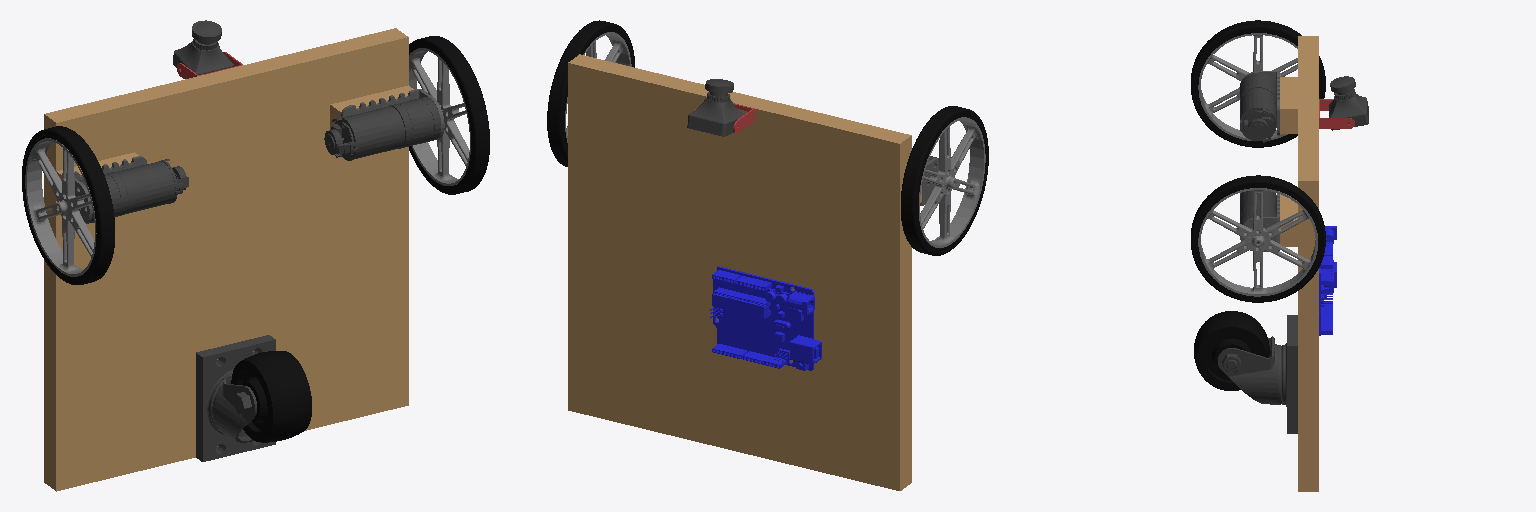
The robot description file, URDF, robot "TrainingBot":
<?xml version="1.0" encoding="utf-8"?>
<!-- This URDF was automatically created by SolidWorks to URDF Exporter! Originally created by [author] ([email redacted]) 
     Commit Version: 1.5.1-0-g916b5db  Build Version: 1.5.7152.31018
     For more information, please see http://wiki.ros.org/sw_urdf_exporter -->
<robot
  name="TrainingBot">
  <link
    name="base_link">
    <inertial>
      <origin
        xyz="0 6.93889390390723E-18 0"
        rpy="0 0 0" />
      <mass
        value="0.2487478896" />
      <inertia
        ixx="0.00108731765426357"
        ixy="1.31669577584786E-20"
        ixz="-7.02237747118861E-20"
        iyy="0.00216650954413354"
        iyz="-4.38898591949288E-21"
        izz="0.00108731765426357" />
    </inertial>
    <visual>
      <origin
        xyz="0 0 0"
        rpy="0 0 0" />
      <geometry>
        <mesh
          filename="../meshes/base_link.STL" />
      </geometry>
      <material
        name="base_link_material">
        <color
          rgba="0.756 0.604 0.420 1" />
      </material>
    </visual>
    <collision>
      <origin
        xyz="0 0 0"
        rpy="0 0 0" />
      <geometry>
        <mesh
          filename="../meshes/base_link.STL" />
      </geometry>
    </collision>
  </link>
  <link
    name="left_wood_prop_link">
    <inertial>
      <origin
        xyz="0 0 0"
        rpy="0 0 0" />
      <mass
        value="0.0038284704333664" />
      <inertia
        ixx="1.55456377687415E-07"
        ixy="4.73951959522331E-23"
        ixz="1.49490791631222E-22"
        iyy="9.33313564697618E-07"
        iyz="-8.99331796208736E-39"
        izz="8.68793469516912E-07" />
    </inertial>
    <visual>
      <origin
        xyz="0 0 0"
        rpy="0 0 0" />
      <geometry>
        <mesh
          filename="../meshes/left_wood_prop_link.STL" />
      </geometry>
      <material
        name="left_wood_prop_link_material">
        <color
          rgba="0.756 0.604 0.420 1" />
      </material>
    </visual>
    <collision>
      <origin
        xyz="0 0 0"
        rpy="0 0 0" />
      <geometry>
        <mesh
          filename="../meshes/left_wood_prop_link.STL" />
      </geometry>
    </collision>
  </link>
  <joint
    name="left_wood_prop_joint"
    type="fixed">
    <origin
      xyz="0.0889 -0.012969 0.075044"
      rpy="3.1416 0 3.1416" />
    <parent
      link="base_link" />
    <child
      link="left_wood_prop_link" />
    <axis
      xyz="0 0 0" />
  </joint>
  <link
    name="left_motor_mount_link">
    <inertial>
      <origin
        xyz="-0.00100407311454354 0.00877383766048704 0.00402712436635298"
        rpy="0 0 0" />
      <mass
        value="0.00846304493890513" />
      <inertia
        ixx="2.89279393533569E-06"
        ixy="-1.24622077425322E-10"
        ixz="-6.37724876878601E-10"
        iyy="2.90019095894266E-06"
        iyz="-5.52678208926092E-07"
        izz="7.96294207053633E-07" />
    </inertial>
    <visual>
      <origin
        xyz="0 0 0"
        rpy="0 0 0" />
      <geometry>
        <mesh
          filename="../meshes/left_motor_mount_link.STL" />
      </geometry>
      <material
        name="left_motor_mount_link_material">
        <color
          rgba="0.4 0.4 0.4 1" />
      </material>
    </visual>
    <collision>
      <origin
        xyz="0 0 0"
        rpy="0 0 0" />
      <geometry>
        <mesh
          filename="../meshes/left_motor_mount_link.STL" />
      </geometry>
    </collision>
  </link>
  <joint
    name="left_motor_mount_joint"
    type="fixed">
    <origin
      xyz="-0.011838 -0.019469 -0.0007163"
      rpy="0 1.5708 0" />
    <parent
      link="left_wood_prop_link" />
    <child
      link="left_motor_mount_link" />
    <axis
      xyz="0 0 0" />
  </joint>
  <link
    name="left_motor_link">
    <inertial>
      <origin
        xyz="0.0987259348740435 0.0194246502815318 -0.114196435699102"
        rpy="0 0 0" />
      <mass
        value="0.565454707473237" />
      <inertia
        ixx="0.0019096576825044"
        ixy="0.000258442184179706"
        ixz="-9.66227920118916E-07"
        iyy="0.00417835606642326"
        iyz="1.4674385288499E-05"
        izz="0.00280904792782018" />
    </inertial>
    <visual>
      <origin
        xyz="0 0 0"
        rpy="0 0 0" />
      <geometry>
        <mesh
          filename="../meshes/left_motor_link.STL" />
      </geometry>
      <material
        name="left_motor_link_material">
        <color
          rgba="0.3 0.3 0.3 1" />
      </material>
    </visual>
    <collision>
      <origin
        xyz="0 0 0"
        rpy="0 0 0" />
      <geometry>
        <mesh
          filename="../meshes/left_motor_link.STL" />
      </geometry>
    </collision>
  </link>
  <joint
    name="left_motor_joint"
    type="fixed">
    <origin
      xyz="-0.001 -0.001 -0.012417"
      rpy="3.1416 0 3.1416" />
    <parent
      link="left_motor_mount_link" />
    <child
      link="left_motor_link" />
    <axis
      xyz="0 0 0" />
  </joint>
  <link
    name="left_plastic_wheel_link">
    <inertial>
      <origin
        xyz="5.98353229203374E-05 1.66611775014903E-06 -6.92626139775498E-08"
        rpy="0 0 0" />
      <mass
        value="0.00930111102814003" />
      <inertia
        ixx="8.80270973746616E-06"
        ixy="-1.38331953233325E-11"
        ixz="-1.53641037444888E-12"
        iyy="4.44911127134219E-06"
        iyz="3.15853111289941E-12"
        izz="4.4452911773099E-06" />
    </inertial>
    <visual>
      <origin
        xyz="0 0 0"
        rpy="0 0 0" />
      <geometry>
        <mesh
          filename="../meshes/left_plastic_wheel_link.STL" />
      </geometry>
      <material
        name="left_plastic_wheel_link_material">
        <color
          rgba="0.5 0.5 0.5 1" />
      </material>
    </visual>
    <collision>
      <origin
        xyz="0 0 0"
        rpy="0 0 0" />
      <geometry>
        <mesh
          filename="../meshes/left_plastic_wheel_link.STL" />
      </geometry>
    </collision>
  </link>
  <joint
    name="left_plastic_wheel_joint"
    type="continuous">
    <origin
      xyz="0 0 0.0085749"
      rpy="3.1416 -1.5708 0" />
    <parent
      link="left_motor_link" />
    <child
      link="left_plastic_wheel_link" />
    <axis
      xyz="0.99998 0 -0.0059159" />
    <limit
      lower="0"
      upper="0"
      effort="0"
      velocity="0" />
  </joint>
  <link
    name="left_rubber_wheel_link">
    <inertial>
      <origin
        xyz="-0.12277131595691 0.0194246502815318 -0.0987259348740435"
        rpy="0 0 0" />
      <mass
        value="0.565454707473237" />
      <inertia
        ixx="0.00280904792782018"
        ixy="1.4674385288499E-05"
        ixz="9.66227920118938E-07"
        iyy="0.00417835606642326"
        iyz="-0.000258442184179706"
        izz="0.0019096576825044" />
    </inertial>
    <visual>
      <origin
        xyz="0 0 0"
        rpy="0 0 0" />
      <geometry>
        <mesh
          filename="../meshes/left_rubber_wheel_link.STL" />
      </geometry>
      <material
        name="left_rubber_wheel_link_material">
        <color
          rgba="0.1 0.1 0.1 1" />
      </material>
    </visual>
    <collision>
      <origin
        xyz="0 0 0"
        rpy="0 0 0" />
      <geometry>
        <mesh
          filename="../meshes/left_rubber_wheel_link.STL" />
      </geometry>
    </collision>
  </link>
  <joint
    name="left_rubber_wheel_joint"
    type="fixed">
    <origin
      xyz="0 0 0"
      rpy="0 0 0" />
    <parent
      link="left_plastic_wheel_link" />
    <child
      link="left_rubber_wheel_link" />
    <axis
      xyz="0 0 0" />
  </joint>
  <link
    name="right_wood_prop_link">
    <inertial>
      <origin
        xyz="0 -3.46944695195361E-18 -2.77555756156289E-17"
        rpy="0 0 0" />
      <mass
        value="0.0038284704333664" />
      <inertia
        ixx="1.55456377687415E-07"
        ixy="-2.42645417401871E-23"
        ixz="4.91675617734335E-21"
        iyy="9.3331356469762E-07"
        iyz="2.58302098591945E-24"
        izz="8.68793469516915E-07" />
    </inertial>
    <visual>
      <origin
        xyz="0 0 0"
        rpy="0 0 0" />
      <geometry>
        <mesh
          filename="../meshes/right_wood_prop_link.STL" />
      </geometry>
      <material
        name="right_wood_prop_link_material">
        <color
          rgba="0.756 0.604 0.420 1" />
      </material>
    </visual>
    <collision>
      <origin
        xyz="0 0 0"
        rpy="0 0 0" />
      <geometry>
        <mesh
          filename="../meshes/right_wood_prop_link.STL" />
      </geometry>
    </collision>
  </link>
  <joint
    name="right_wood_prop_joint"
    type="fixed">
    <origin
      xyz="-0.0889 -0.012969 0.075044"
      rpy="0 0 0" />
    <parent
      link="base_link" />
    <child
      link="right_wood_prop_link" />
    <axis
      xyz="0 0 0" />
  </joint>
  <link
    name="right_motor_mount_link">
    <inertial>
      <origin
        xyz="-0.0010041 -0.0087738 -0.0040271"
        rpy="0 0 0" />
      <mass
        value="0.008463" />
      <inertia
        ixx="2.8928E-06"
        ixy="1.2462E-10"
        ixz="6.3772E-10"
        iyy="2.9002E-06"
        iyz="-5.5268E-07"
        izz="7.9629E-07" />
    </inertial>
    <visual>
      <origin
        xyz="0 0 0"
        rpy="0 0 0" />
      <geometry>
        <mesh
          filename="../meshes/right_motor_mount_link.STL" />
      </geometry>
      <material
        name="right_motor_mount_link_material">
        <color
          rgba="0.4 0.4 0.4 1" />
      </material>
    </visual>
    <collision>
      <origin
        xyz="0 0 0"
        rpy="0 0 0" />
      <geometry>
        <mesh
          filename="../meshes/right_motor_mount_link.STL" />
      </geometry>
    </collision>
  </link>
  <joint
    name="right_motor_mount_joint"
    type="fixed">
    <origin
      xyz="-0.011838 -0.019469 -0.0007163"
      rpy="3.1416 1.5708 0" />
    <parent
      link="right_wood_prop_link" />
    <child
      link="right_motor_mount_link" />
    <axis
      xyz="0 0 0" />
  </joint>
  <link
    name="right_motor_link">
    <inertial>
      <origin
        xyz="-0.0992933348740457 -0.0194246502815318 0.112112416386536"
        rpy="0 0 0" />
      <mass
        value="0.565454707473237" />
      <inertia
        ixx="0.0019096576825044"
        ixy="0.000258442184179707"
        ixz="9.66227920119005E-07"
        iyy="0.00417835606642326"
        iyz="-1.4674385288499E-05"
        izz="0.00280904792782018" />
    </inertial>
    <visual>
      <origin
        xyz="0 0 0"
        rpy="0 0 0" />
      <geometry>
        <mesh
          filename="../meshes/right_motor_link.STL" />
      </geometry>
      <material
        name="right_motor_link_material">
        <color
          rgba="0.3 0.3 0.3 1" />
      </material>
    </visual>
    <collision>
      <origin
        xyz="0 0 0"
        rpy="0 0 0" />
      <geometry>
        <mesh
          filename="../meshes/right_motor_link.STL" />
      </geometry>
    </collision>
  </link>
  <joint
    name="right_motor_joint"
    type="fixed">
    <origin
      xyz="-0.001 0.001 0.012417"
      rpy="3.1416 0 3.1416" />
    <parent
      link="right_motor_mount_link" />
    <child
      link="right_motor_link" />
    <axis
      xyz="0 0 0" />
  </joint>
  <link
    name="right_plastic_wheel_link">
    <inertial>
      <origin
        xyz="5.98353229203097E-05 1.66611775017679E-06 -6.9262614033061E-08"
        rpy="0 0 0" />
      <mass
        value="0.00930111102814002" />
      <inertia
        ixx="8.8027097374662E-06"
        ixy="-1.38331953250642E-11"
        ixz="-1.53641034480395E-12"
        iyy="4.44911127134219E-06"
        iyz="3.15853111876688E-12"
        izz="4.44529117730995E-06" />
    </inertial>
    <visual>
      <origin
        xyz="0 0 0"
        rpy="0 0 0" />
      <geometry>
        <mesh
          filename="../meshes/right_plastic_wheel_link.STL" />
      </geometry>
      <material
        name="right_plastic_wheel_link_material">
        <color
          rgba="0.5 0.5 0.5 1" />
      </material>
    </visual>
    <collision>
      <origin
        xyz="0 0 0"
        rpy="0 0 0" />
      <geometry>
        <mesh
          filename="../meshes/right_plastic_wheel_link.STL" />
      </geometry>
    </collision>
  </link>
  <joint
    name="right_plastic_wheel_joint"
    type="continuous">
    <origin
      xyz="0 0 -0.0085749"
      rpy="3.1416 1.5708 0" />
    <parent
      link="right_motor_link" />
    <child
      link="right_plastic_wheel_link" />
    <axis
      xyz="-0.99998 0 0.0059159" />
    <limit
      lower="0"
      upper="0"
      effort="0"
      velocity="0" />
  </joint>
  <link
    name="right_rubber_wheel_link">
    <inertial>
      <origin
        xyz="-0.120687296644344 0.0194246502815318 0.0992933348740457"
        rpy="0 0 0" />
      <mass
        value="0.565454707473237" />
      <inertia
        ixx="0.00280904792782018"
        ixy="-1.4674385288499E-05"
        ixz="9.66227920118893E-07"
        iyy="0.00417835606642326"
        iyz="0.000258442184179706"
        izz="0.0019096576825044" />
    </inertial>
    <visual>
      <origin
        xyz="0 0 0"
        rpy="0 0 0" />
      <geometry>
        <mesh
          filename="../meshes/right_rubber_wheel_link.STL" />
      </geometry>
      <material
        name="right_rubber_wheel_link_material">
        <color
          rgba="0.1 0.1 0.1 1" />
      </material>
    </visual>
    <collision>
      <origin
        xyz="0 0 0"
        rpy="0 0 0" />
      <geometry>
        <mesh
          filename="../meshes/right_rubber_wheel_link.STL" />
      </geometry>
    </collision>
  </link>
  <joint
    name="right_rubber_wheel_joint"
    type="fixed">
    <origin
      xyz="0 0 0"
      rpy="0 0 0" />
    <parent
      link="right_plastic_wheel_link" />
    <child
      link="right_rubber_wheel_link" />
    <axis
      xyz="0 0 0" />
  </joint>
  <link
    name="arduino_link">
    <inertial>
      <origin
        xyz="-0.00443555226377786 0.00345891465498817 0.000485794062924864"
        rpy="0 0 0" />
      <mass
        value="0.0190084033832232" />
      <inertia
        ixx="4.64771829337766E-06"
        ixy="2.58977175570132E-07"
        ixz="-6.93407495364968E-07"
        iyy="1.23120623971968E-05"
        iyz="3.09871889807544E-08"
        izz="7.97997303275591E-06" />
    </inertial>
    <visual>
      <origin
        xyz="0 0 0"
        rpy="0 0 0" />
      <geometry>
        <mesh
          filename="../meshes/arduino_link.STL" />
      </geometry>
      <material
        name="arduino_link_material">
        <color
          rgba="0.2 0.2 0.9 1" />
      </material>
    </visual>
    <collision>
      <origin
        xyz="0 0 0"
        rpy="0 0 0" />
      <geometry>
        <mesh
          filename="../meshes/arduino_link.STL" />
      </geometry>
    </collision>
  </link>
  <joint
    name="arduino_joint"
    type="fixed">
    <origin
      xyz="-0.019555 0.007 -0.021225"
      rpy="0 0 0" />
    <parent
      link="base_link" />
    <child
      link="arduino_link" />
    <axis
      xyz="0 0 0" />
  </joint>
  <link
    name="caster_base_link">
    <inertial>
      <origin
        xyz="4.33680868994202E-18 -0.00461235480768706 5.20417042793042E-18"
        rpy="0 0 0" />
      <mass
        value="0.0718918458719362" />
      <inertia
        ixx="2.22114855393648E-05"
        ixy="2.46934823397865E-22"
        ixz="1.08179714485451E-21"
        iyy="3.43922451251571E-05"
        iyz="8.46459463501254E-22"
        izz="1.33179118339447E-05" />
    </inertial>
    <visual>
      <origin
        xyz="0 0 0"
        rpy="0 0 0" />
      <geometry>
        <mesh
          filename="../meshes/caster_base_link.STL" />
      </geometry>
      <material
        name="caster_base_link_material">
        <color
          rgba="0.3 0.3 0.3 1" />
      </material>
    </visual>
    <collision>
      <origin
        xyz="0 0 0"
        rpy="0 0 0" />
      <geometry>
        <mesh
          filename="../meshes/caster_base_link.STL" />
      </geometry>
    </collision>
  </link>
  <joint
    name="caster_base_joint"
    type="fixed">
    <origin
      xyz="0 -0.007 -0.081756"
      rpy="0 0 0" />
    <parent
      link="base_link" />
    <child
      link="caster_base_link" />
    <axis
      xyz="0 0 0" />
  </joint>
  <link
    name="caster_swivel_link">
    <inertial>
      <origin
        xyz="4.64515692301113E-05 -0.0137748906438571 0.00528858596116275"
        rpy="0 0 0" />
      <mass
        value="0.0336017326893111" />
      <inertia
        ixx="5.44652234768263E-06"
        ixy="4.81357605898857E-10"
        ixz="-5.41361212425829E-10"
        iyy="7.9693825309088E-06"
        iyz="9.71132693168846E-07"
        izz="6.54332173331282E-06" />
    </inertial>
    <visual>
      <origin
        xyz="0 0 0"
        rpy="0 0 0" />
      <geometry>
        <mesh
          filename="../meshes/caster_swivel_link.STL" />
      </geometry>
      <material
        name="caster_swivel_link_material">
        <color
          rgba="0.3 0.3 0.3 1" />
      </material>
    </visual>
    <collision>
      <origin
        xyz="0 0 0"
        rpy="0 0 0" />
      <geometry>
        <mesh
          filename="../meshes/caster_swivel_link.STL" />
      </geometry>
    </collision>
  </link>
  <joint
    name="caster_swivel_joint"
    type="continuous">
    <origin
      xyz="0 -0.010762 0"
      rpy="0 0 0" />
    <parent
      link="caster_base_link" />
    <child
      link="caster_swivel_link" />
    <axis
      xyz="0 -1 0" />
  </joint>
  <link
    name="caster_wheel_link">
    <inertial>
      <origin
        xyz="1.73472347597681E-18 0 -8.67361737988404E-19"
        rpy="0 0 0" />
      <mass
        value="0.0465242519636442" />
      <inertia
        ixx="1.43611266063729E-05"
        ixy="-2.7969027918337E-23"
        ixz="3.42979169280632E-22"
        iyy="9.47931108063192E-06"
        iyz="2.51004096703023E-23"
        izz="9.47931108063192E-06" />
    </inertial>
    <visual>
      <origin
        xyz="0 0 0"
        rpy="0 0 0" />
      <geometry>
        <mesh
          filename="../meshes/caster_wheel_link.STL" />
      </geometry>
      <material
        name="caster_wheel_link_material">
        <color
          rgba="0.1 0.1 0.1 1" />
      </material>
    </visual>
    <collision>
      <origin
        xyz="0 0 0"
        rpy="0 0 0" />
      <geometry>
        <mesh
          filename="../meshes/caster_wheel_link.STL" />
      </geometry>
    </collision>
  </link>
  <joint
    name="caster_wheel_joint"
    type="continuous">
    <origin
      xyz="0 -0.033338 0.017463"
      rpy="0 0 0" />
    <parent
      link="caster_swivel_link" />
    <child
      link="caster_wheel_link" />
    <axis
      xyz="-1 0 0" />
  </joint>
  <link
    name="camera_mount_link">
    <inertial>
      <origin
        xyz="3.296E-17 0.0080041 0"
        rpy="0 0 0" />
      <mass
        value="0.00053078" />
      <inertia
        ixx="3.2986E-08"
        ixy="-2.8652E-23"
        ixz="9.3366E-24"
        iyy="9.1496E-08"
        iyz="3.6886E-24"
        izz="1.1836E-07" />
    </inertial>
    <visual>
      <origin
        xyz="0 0 0"
        rpy="0 0 0" />
      <geometry>
        <mesh
          filename="../meshes/camera_mount_link.STL" />
      </geometry>
      <material
        name="camera_mount_link_material">
        <color
          rgba="0.75294 0.3 0.3 1" />
      </material>
    </visual>
    <collision>
      <origin
        xyz="0 0 0"
        rpy="0 0 0" />
      <geometry>
        <mesh
          filename="../meshes/camera_mount_link.STL" />
      </geometry>
    </collision>
  </link>
  <joint
    name="camera_mount_joint"
    type="fixed">
    <origin
      xyz="0.00069553 0.0069986 0.11023"
      rpy="0 0 0" />
    <parent
      link="base_link" />
    <child
      link="camera_mount_link" />
    <axis
      xyz="0 0 0" />
  </joint>
  <link
    name="camera_link">
    <inertial>
      <origin
        xyz="1.4205E-05 0.0097834 -1.8556E-05"
        rpy="0 0 0" />
      <mass
        value="0.010505" />
      <inertia
        ixx="1.0353E-06"
        ixy="1.1731E-09"
        ixz="-1.5327E-09"
        iyy="8.7273E-07"
        iyz="-1.5361E-09"
        izz="1.0382E-06" />
    </inertial>
    <visual>
      <origin
        xyz="0 0 0"
        rpy="0 0 0" />
      <geometry>
        <mesh
          filename="../meshes/camera_link.STL" />
      </geometry>
      <material
        name="camera_link">
        <color
          rgba="0.3 0.3 0.3 1" />
      </material>
    </visual>
    <collision>
      <origin
        xyz="0 0 0"
        rpy="0 0 0" />
      <geometry>
        <mesh
          filename="../meshes/camera_link.STL" />
      </geometry>
    </collision>
  </link>
  <joint
    name="camera_joint"
    type="fixed">
    <origin
      xyz="0 0.020713 -0.003936"
      rpy="1.7499 0 0" />
    <parent
      link="camera_mount_link" />
    <child
      link="camera_link" />
    <axis
      xyz="0 0 0" />
  </joint>
</robot>

--- Render facts (derived) ---
The picture shows the robot from 3 angles, left to right: view 1: azimuth 30°, elevation 25°; view 2: azimuth 150°, elevation 25°; view 3: azimuth 270°, elevation 25°; orthographic projection.
Model TrainingBot with 17 links and 16 joints (4 continuous, 12 fixed), rooted at base_link, posed every joint at zero.
Visible links, largest first — view 1: base_link, caster_wheel_link, right_plastic_wheel_link, left_motor_link, caster_base_link, right_rubber_wheel_link, left_rubber_wheel_link, left_plastic_wheel_link, right_motor_link, caster_swivel_link, camera_link, left_motor_mount_link (+2 smaller); view 2: base_link, arduino_link, right_plastic_wheel_link, right_rubber_wheel_link, left_rubber_wheel_link, camera_link, left_plastic_wheel_link; view 3: base_link, left_plastic_wheel_link, caster_wheel_link, left_rubber_wheel_link, caster_swivel_link, right_rubber_wheel_link, right_motor_link, right_plastic_wheel_link, caster_base_link, arduino_link, camera_link, right_wood_prop_link (+2 smaller).
Link boxes in pixels (x1,y1,x2,y2): base_link: (44,28,408,491); caster_wheel_link: (231,351,311,442); right_plastic_wheel_link: (25,138,96,276); left_motor_link: (324,97,440,160); caster_base_link: (196,335,275,461); right_rubber_wheel_link: (22,126,114,284); left_rubber_wheel_link: (409,36,489,194); left_plastic_wheel_link: (409,48,470,185); right_motor_link: (79,159,188,223); caster_swivel_link: (212,376,256,442); camera_link: (173,20,233,74); left_motor_mount_link: (341,89,444,139); base_link: (568,54,911,490); arduino_link: (710,266,821,370); right_plastic_wheel_link: (919,117,985,247); right_rubber_wheel_link: (901,106,988,255); left_rubber_wheel_link: (547,20,634,166); camera_link: (687,79,744,136); left_plastic_wheel_link: (565,32,631,142); base_link: (1298,36,1318,491); left_plastic_wheel_link: (1198,188,1317,296); caster_wheel_link: (1194,311,1269,390); left_rubber_wheel_link: (1191,175,1325,302); caster_swivel_link: (1218,336,1281,404); right_rubber_wheel_link: (1191,20,1325,147); right_motor_link: (1240,73,1276,142); right_plastic_wheel_link: (1198,33,1297,140); caster_base_link: (1282,315,1297,433); arduino_link: (1319,226,1336,335); camera_link: (1329,76,1368,130); right_wood_prop_link: (1280,77,1297,133).
Bounding box of the posed robot: 0.257 × 0.1189 × 0.2497 m (x, y, z).
17 mesh visuals loaded from 17 distinct referenced files (17 binary STL).